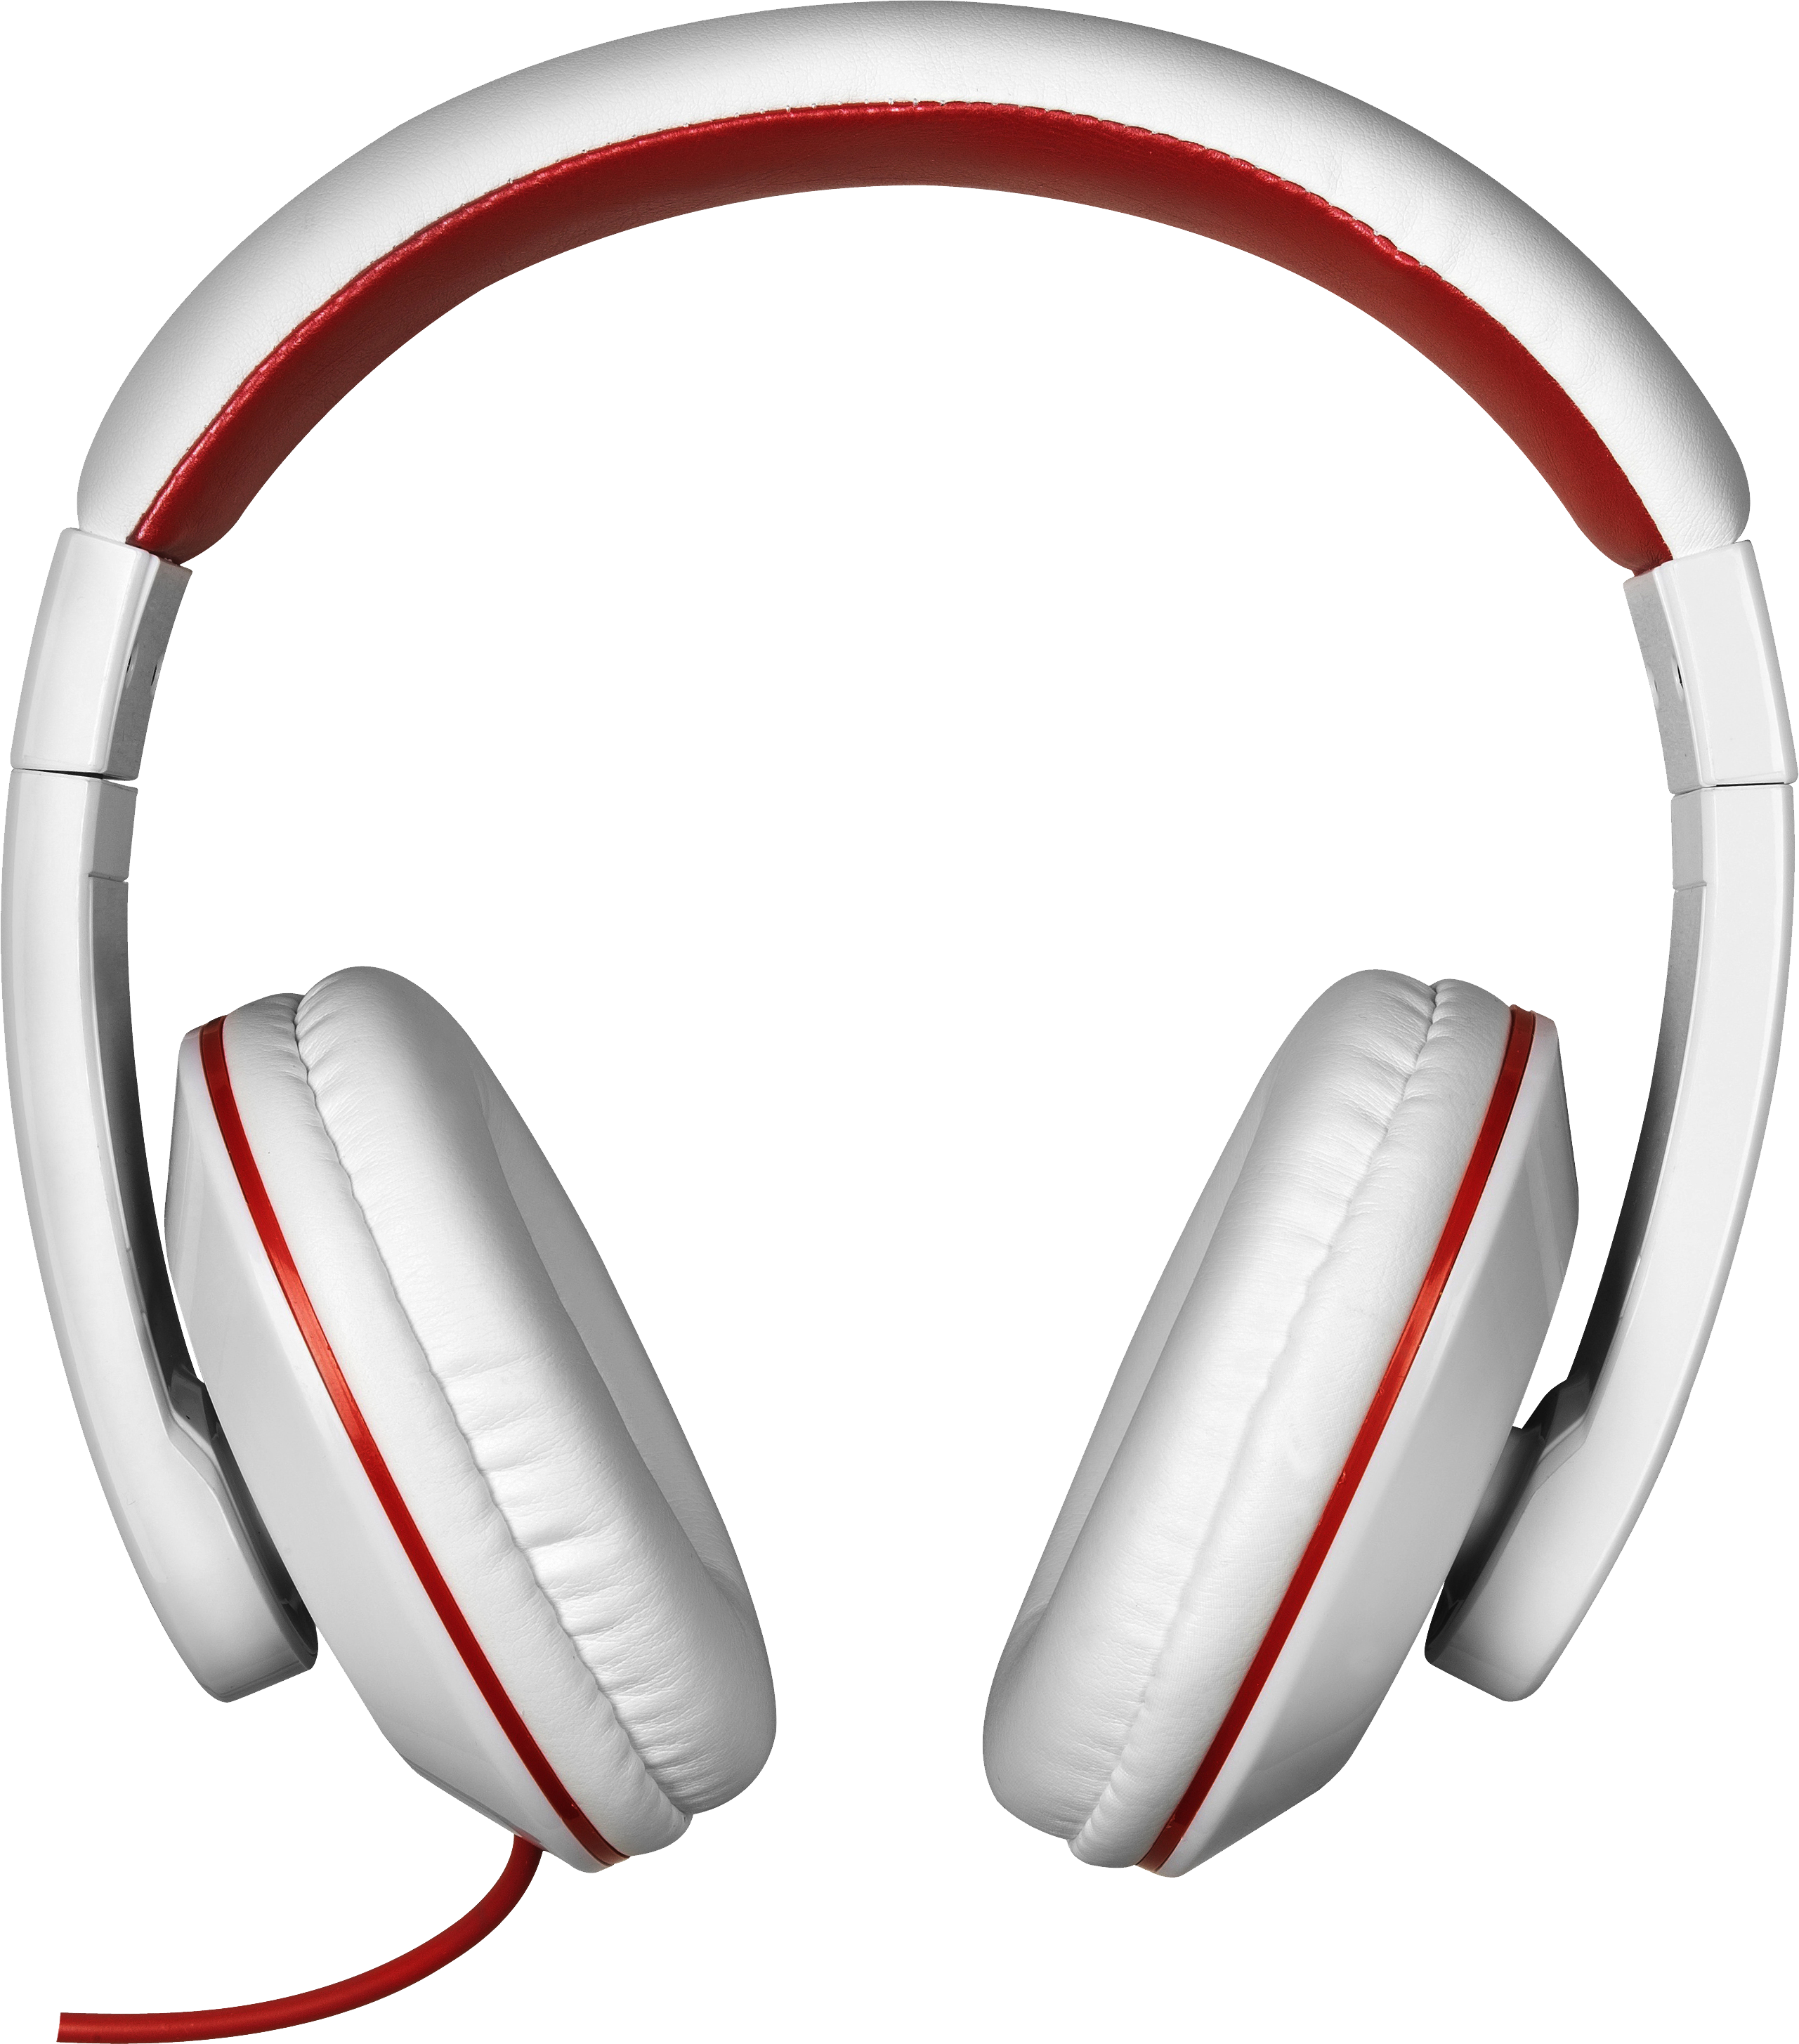headphone: (45, 31, 1799, 1825)
